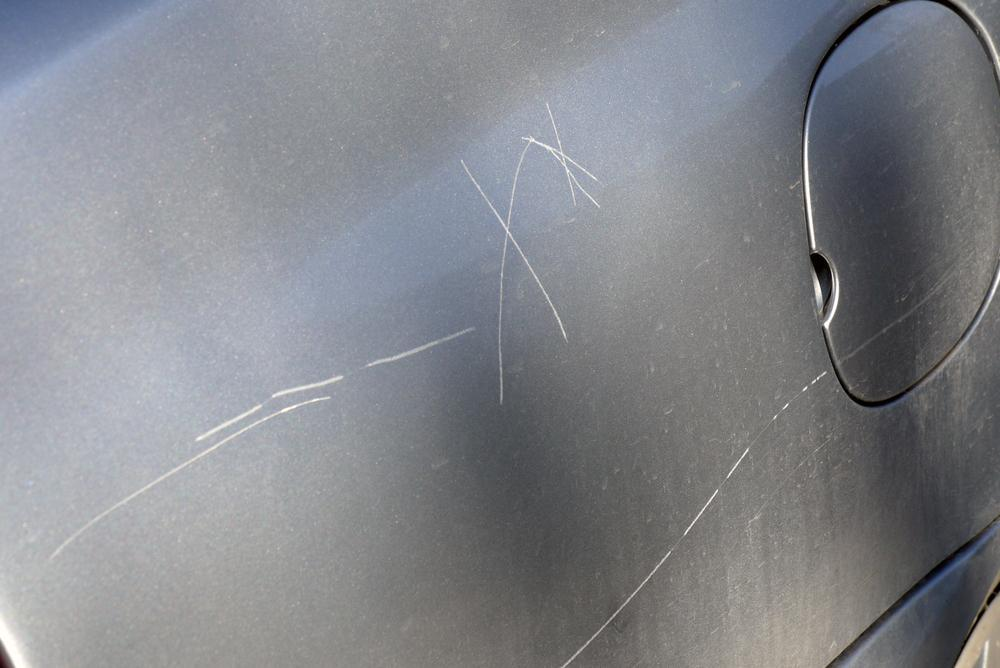scratch: (42, 96, 607, 570), (558, 364, 832, 668)
